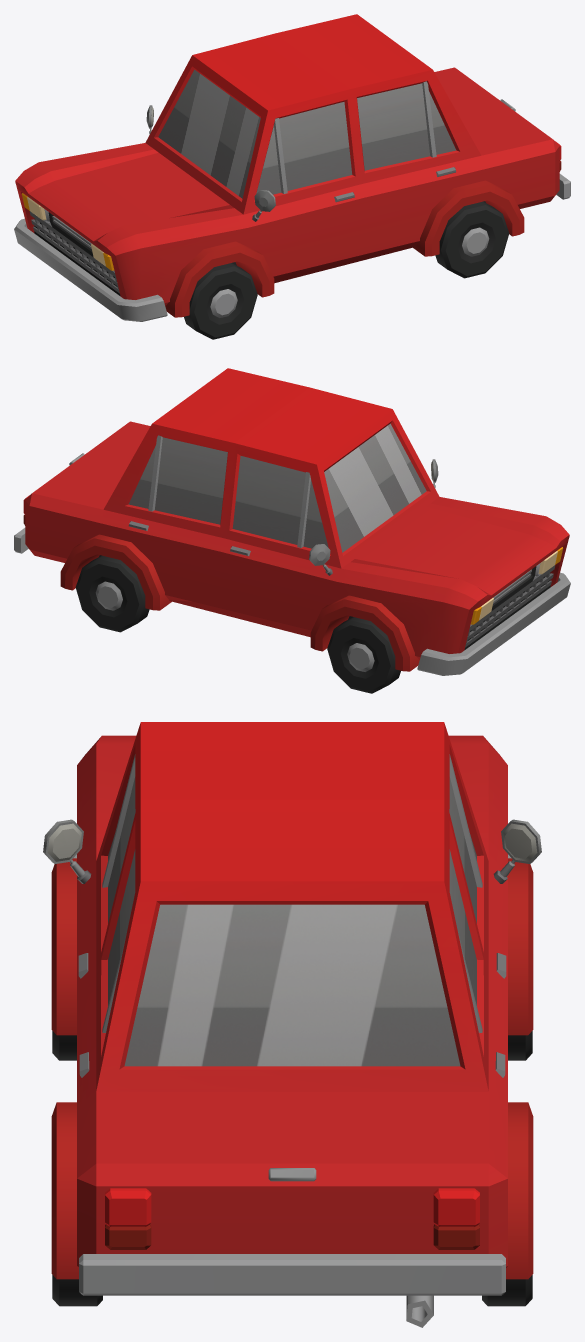
Rendered from Car_5_K.gltf.
3 views of the same model, one above another, from view 1: azimuth 30°, elevation 25°; view 2: azimuth 150°, elevation 25°; view 3: azimuth 270°, elevation 25° (orthographic). The views are drawn at different scales.
Parts seen in each view (by area): view 1: Car_5_K, RR, FL; view 2: Car_5_K, RL, FR; view 3: Car_5_K, RR, RL.
Part boxes in pixels (<box>): Car_5_K: <box>14,14,570,321</box>; RR: <box>435,201,509,278</box>; FL: <box>184,263,257,339</box>; Car_5_K: <box>14,368,570,675</box>; RL: <box>75,555,149,632</box>; FR: <box>327,617,400,693</box>; Car_5_K: <box>43,722,541,1327</box>; RR: <box>52,1275,102,1306</box>; RL: <box>482,1275,532,1306</box>.
Bounding box in the file's own units: 3.55 × 1.45 × 1.67.
4 materials, 4 textured.
